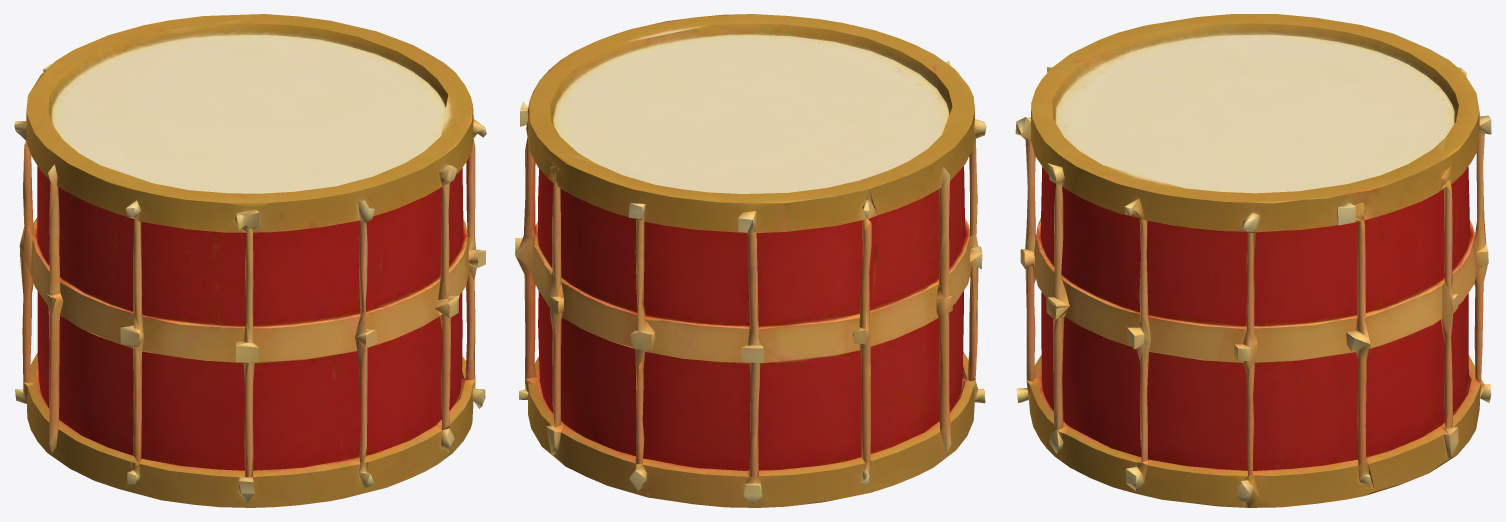
The model's file is m2ToyDrum.glb.
3 views of the same model, side by side, from view 1: azimuth 30°, elevation 25°; view 2: azimuth 150°, elevation 25°; view 3: azimuth 270°, elevation 25° (orthographic).
Parts seen in each view (by area): view 1: model; view 2: model; view 3: model.
Boxes of the visible parts, x1,y1,x2,y2 form: model: (14,14,486,507); model: (515,14,986,507); model: (1015,14,1491,507).
Bounding box in the file's own units: 1.86 × 1.34 × 1.89.
1 material, 1 textured.
